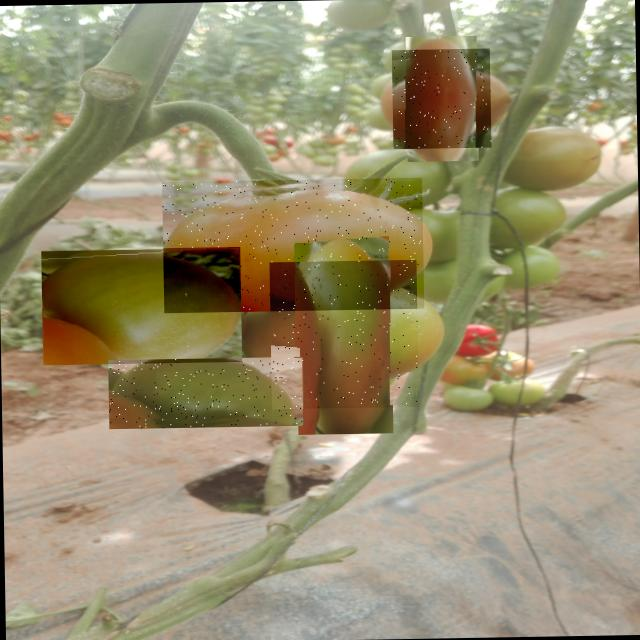Ripe Tomato: (391, 48, 491, 149)
Unripe Tomato: (162, 177, 424, 313), (40, 246, 242, 364), (268, 259, 418, 409), (108, 356, 304, 428)
